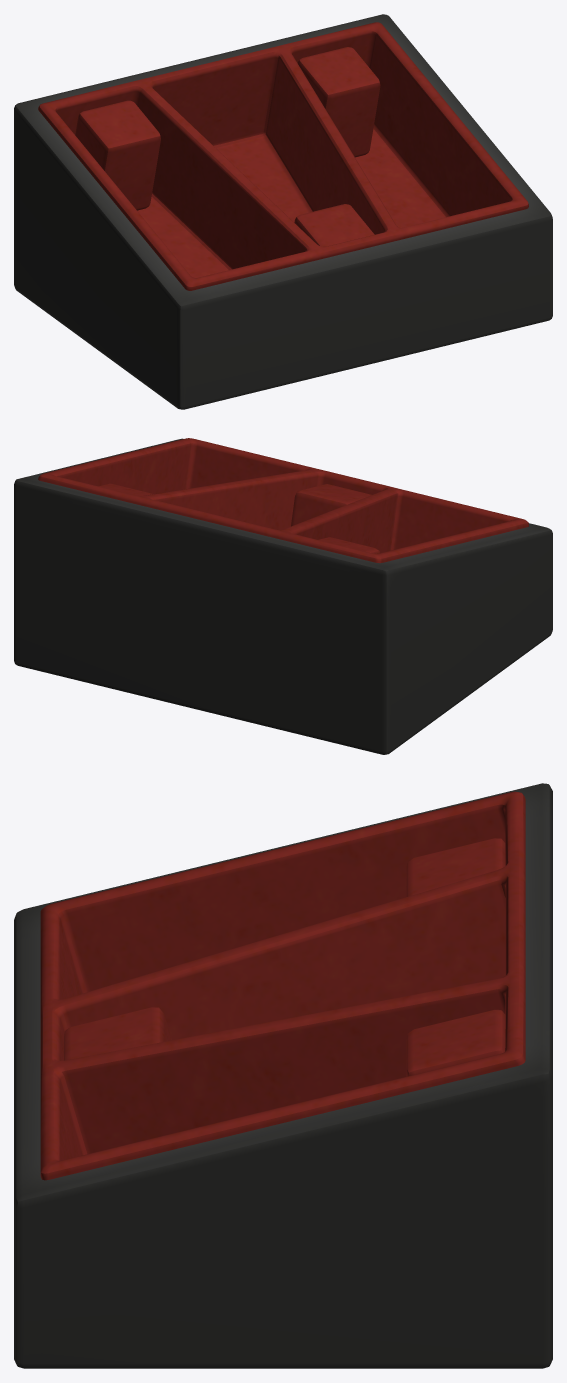
Rendered from YutNori_FinishBoxRed.fbx.
The picture shows the model from 3 angles, top to bottom: view 1: azimuth 30°, elevation 25°; view 2: azimuth 150°, elevation 25°; view 3: azimuth 270°, elevation 25°; orthographic projection. The views are drawn at different scales.
Visible parts, largest first — view 1: YutNori_FinishBoxRed; view 2: YutNori_FinishBoxRed; view 3: YutNori_FinishBoxRed.
Part boxes in pixels (x1,y1,x2,y2): YutNori_FinishBoxRed: (14, 14, 552, 409); YutNori_FinishBoxRed: (14, 438, 552, 754); YutNori_FinishBoxRed: (14, 783, 552, 1368).
Size of the model in its own units: 6.24 by 3.01 by 4.84.
